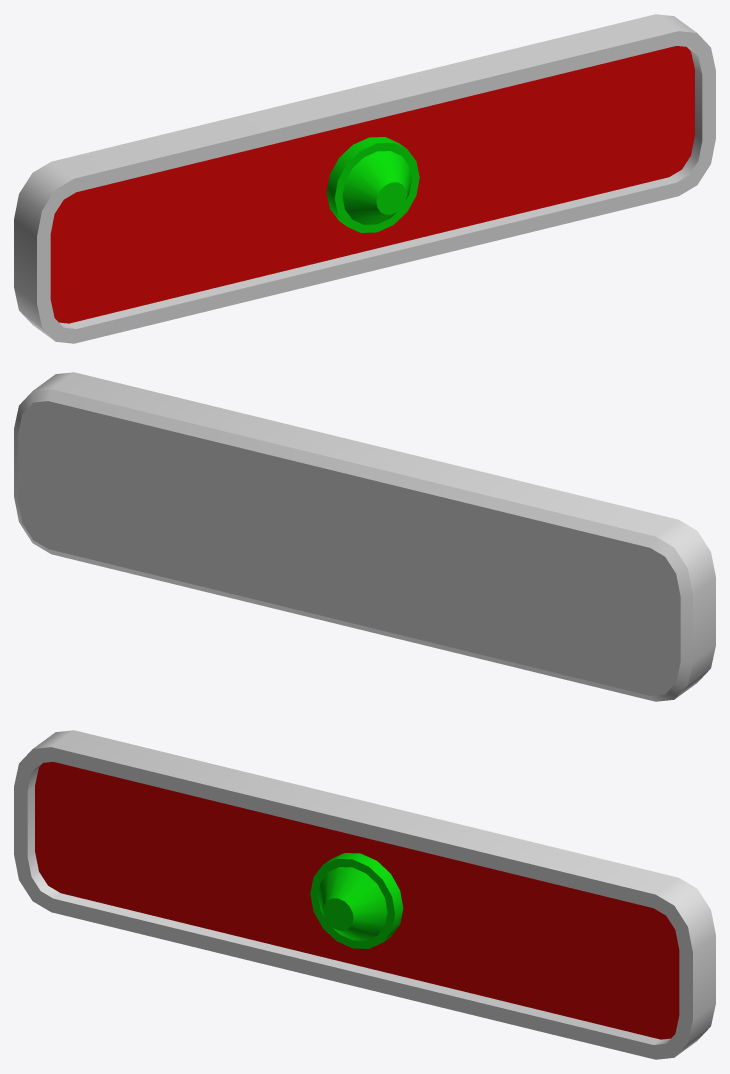
File: StartButton.fbx
The picture shows the model from 3 angles, top to bottom: view 1: azimuth 30°, elevation 25°; view 2: azimuth 150°, elevation 25°; view 3: azimuth 330°, elevation 25°; orthographic projection.
Visible parts, largest first — view 1: StartButton; view 2: StartButton; view 3: StartButton.
Boxes of the visible parts, x1,y1,x2,y2 form: StartButton: (14, 14, 715, 343); StartButton: (14, 372, 715, 701); StartButton: (14, 730, 715, 1059).
Size of the model in its own units: 327 by 76.07 by 35.4.
